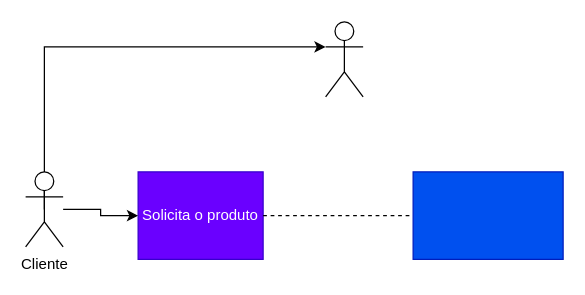
The diagram is 585 pixels wide and 295 high, and some of its shapes have lost their labels. Each missing label, with the centre of its shape:
Pessoa: the point at 343,59
Verificar disponibilidade: the point at 487,215
